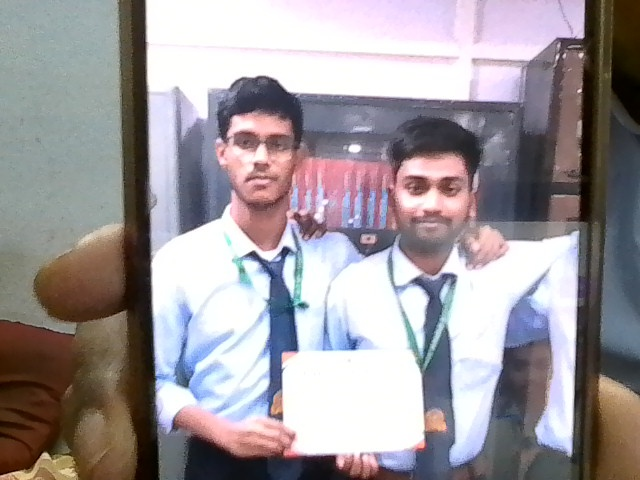real: (212, 78, 312, 220)
